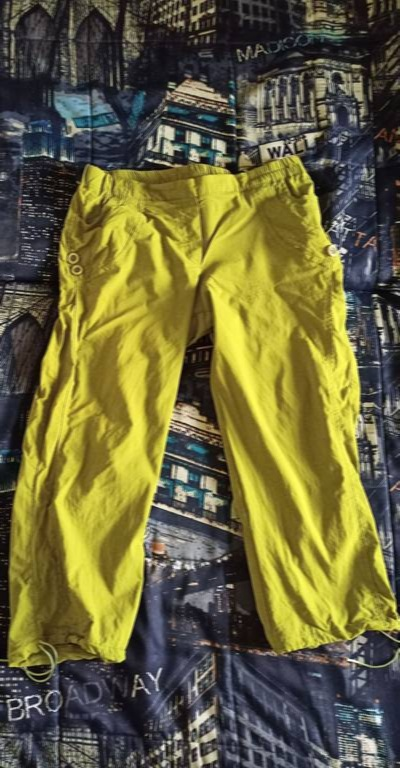Pants: (14, 122, 388, 650)
